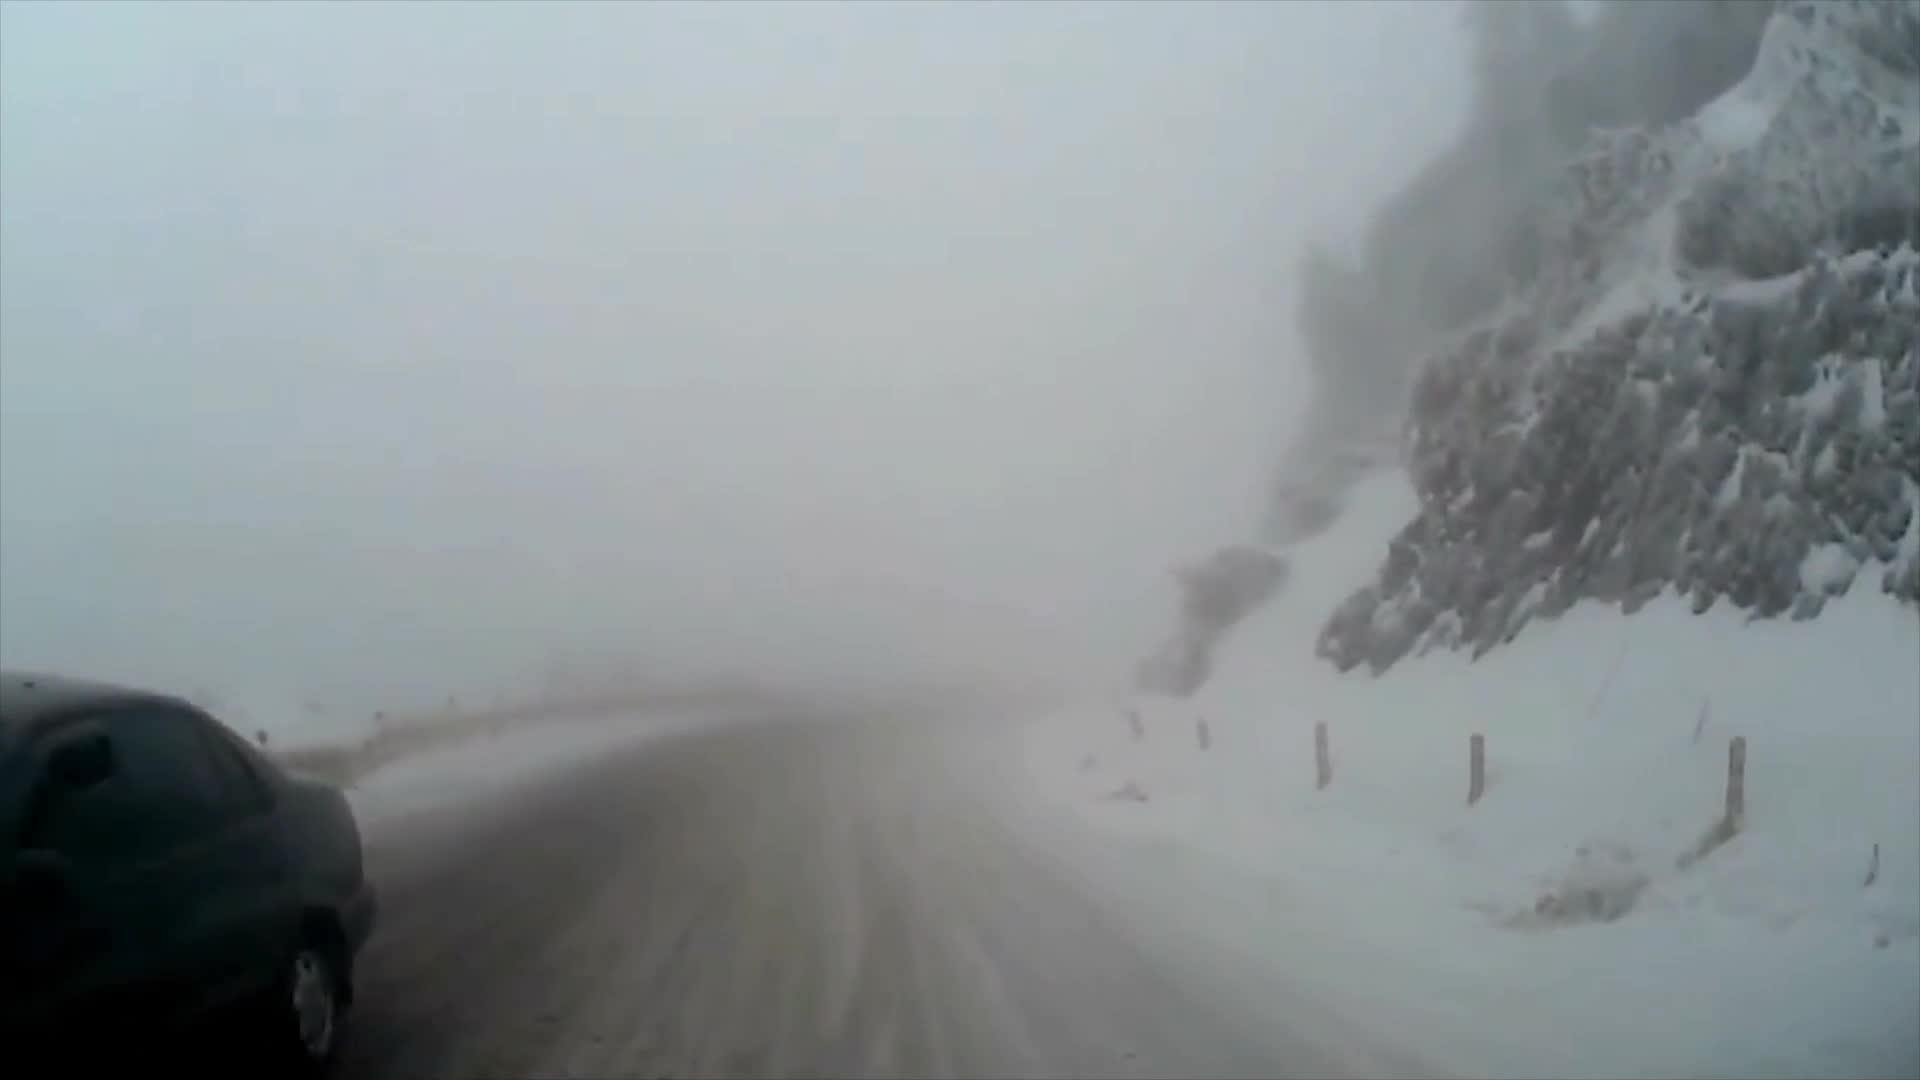vehicle: (0, 667, 382, 1080)
